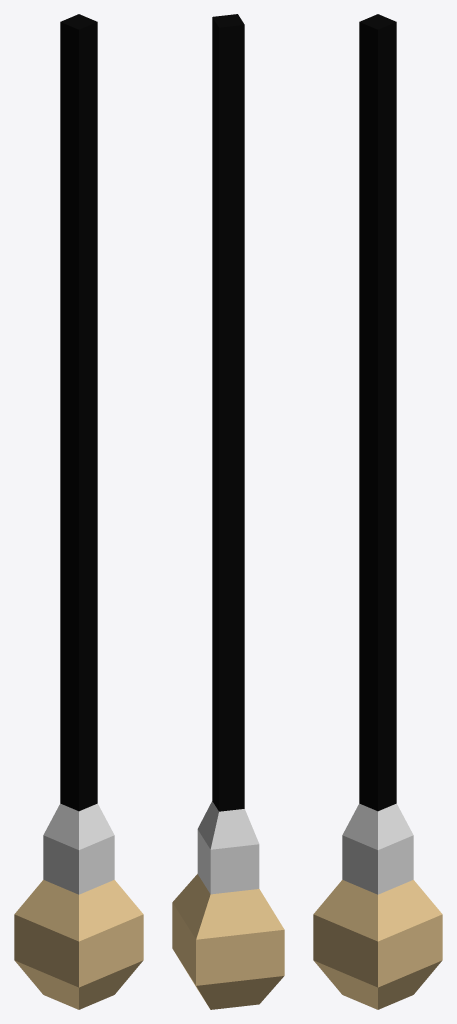
Rendered from Lamp.fbx.
3 views of the same model, side by side, from view 1: azimuth 90°, elevation 25°; view 2: azimuth 150°, elevation 25°; view 3: azimuth 270°, elevation 25° (orthographic).
Visible parts, largest first — view 1: Cube; view 2: Cube; view 3: Cube.
Part boxes in pixels (left/top/right/bottom): Cube: left=14, top=14, right=143, bottom=1009; Cube: left=172, top=14, right=284, bottom=1009; Cube: left=313, top=14, right=442, bottom=1009.
Size of the model in its own units: 20.77 by 20.77 by 173.
